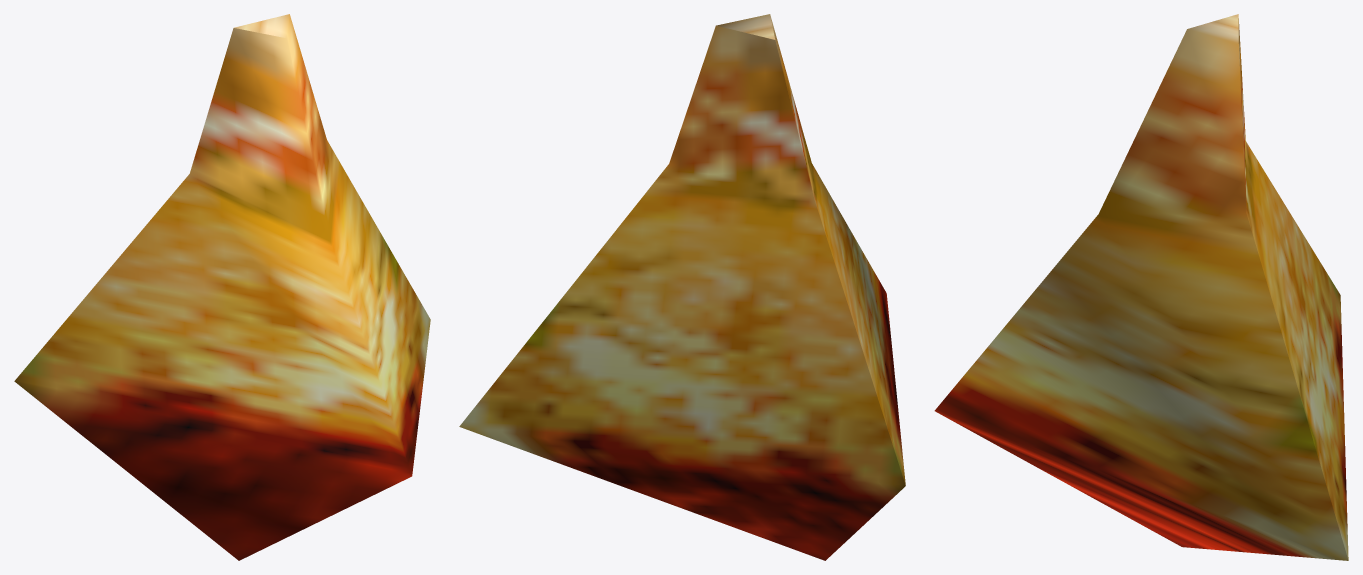
The model's file is food_meat.glb.
3 views of the same model, side by side, from view 1: azimuth 30°, elevation 25°; view 2: azimuth 150°, elevation 25°; view 3: azimuth 270°, elevation 25° (orthographic). The views are drawn at different scales.
Parts seen in each view (by area): view 1: meat_01.001; view 2: meat_01.001; view 3: meat_01.001.
Boxes of the visible parts, x1,y1,x2,y2 form: meat_01.001: (14,14,430,560); meat_01.001: (459,14,905,560); meat_01.001: (934,14,1348,560).
Bounding box in the file's own units: 69.79 × 80.72 × 55.7.
Materials: 1 (1 with a texture image).
